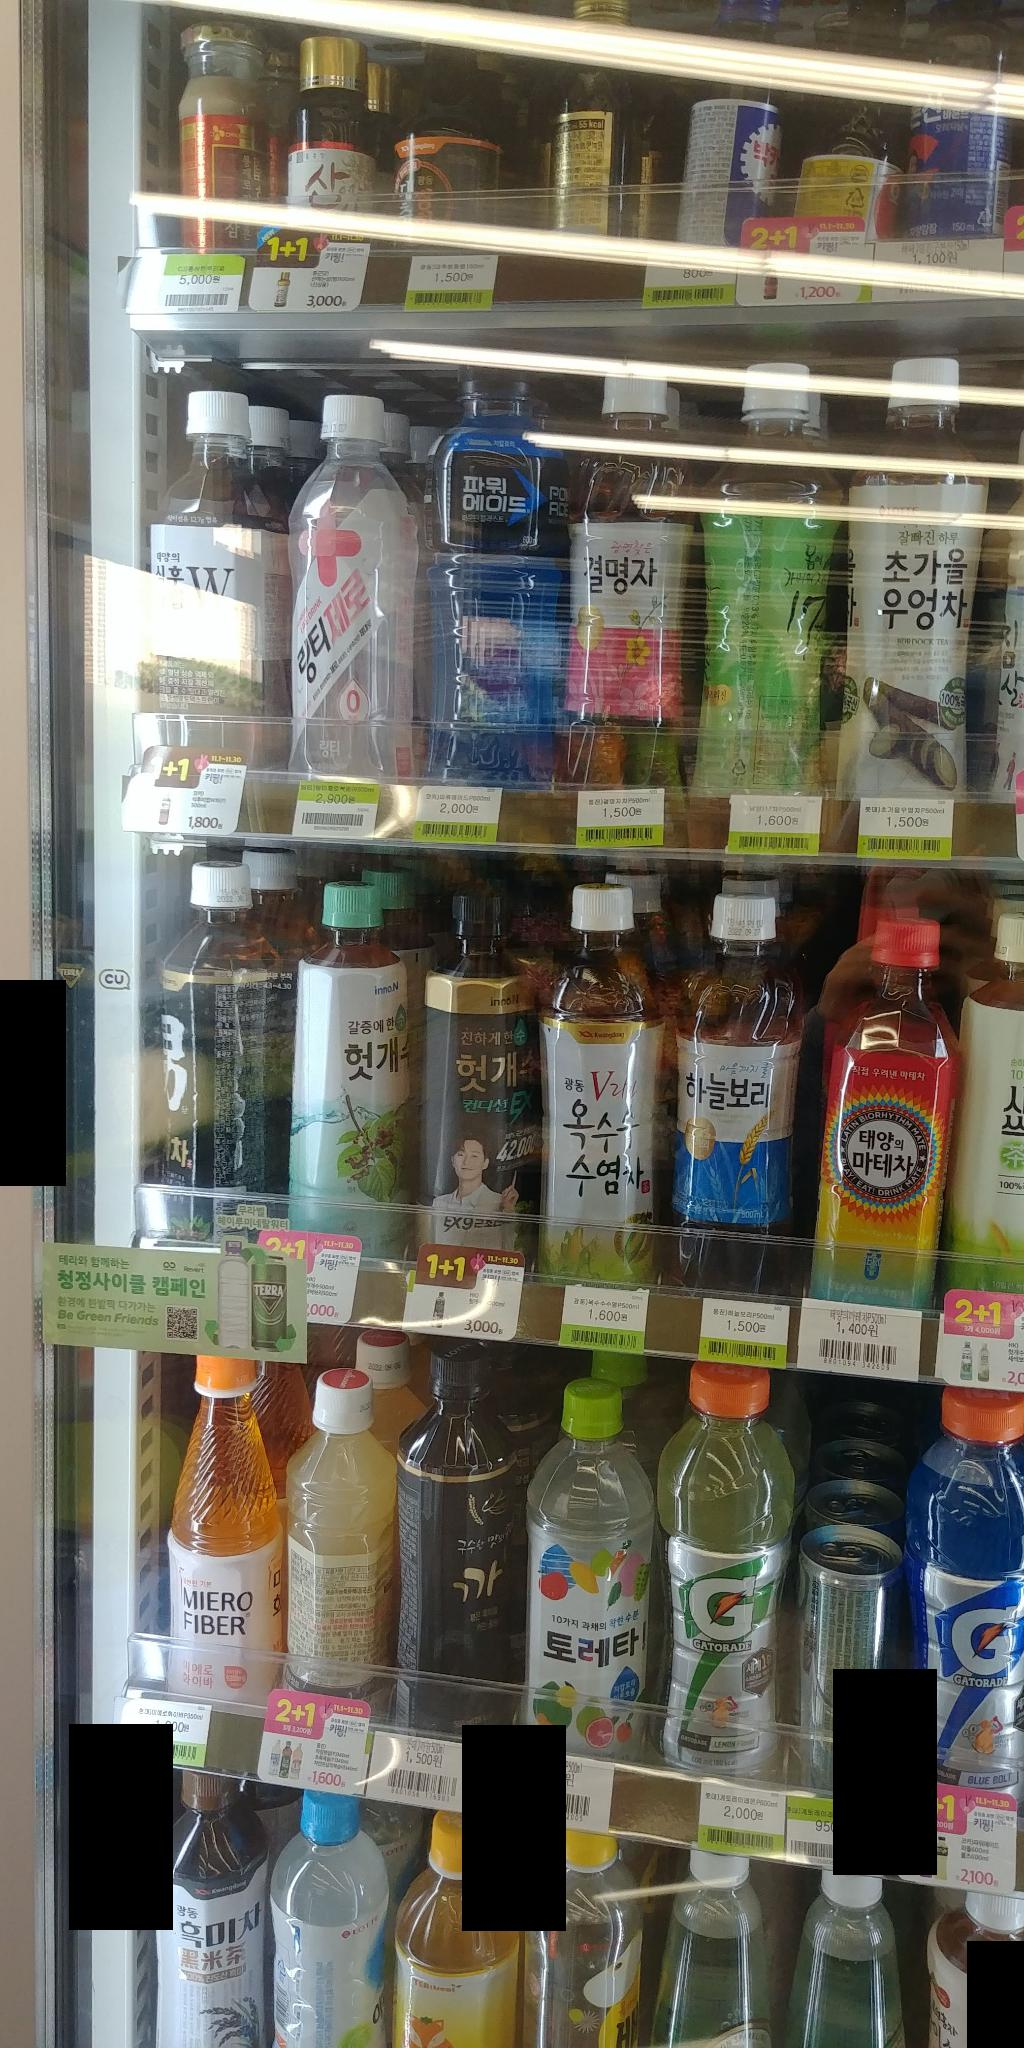gatorade_lemon: (661, 1356, 789, 1780)
haneulbori: (675, 887, 794, 1273)
heotgaecha: (148, 854, 274, 1225)
oksususuyeomcha: (547, 879, 650, 1280)
powerade_mountainblast: (428, 359, 555, 785)
toreta: (520, 1373, 652, 1755)
